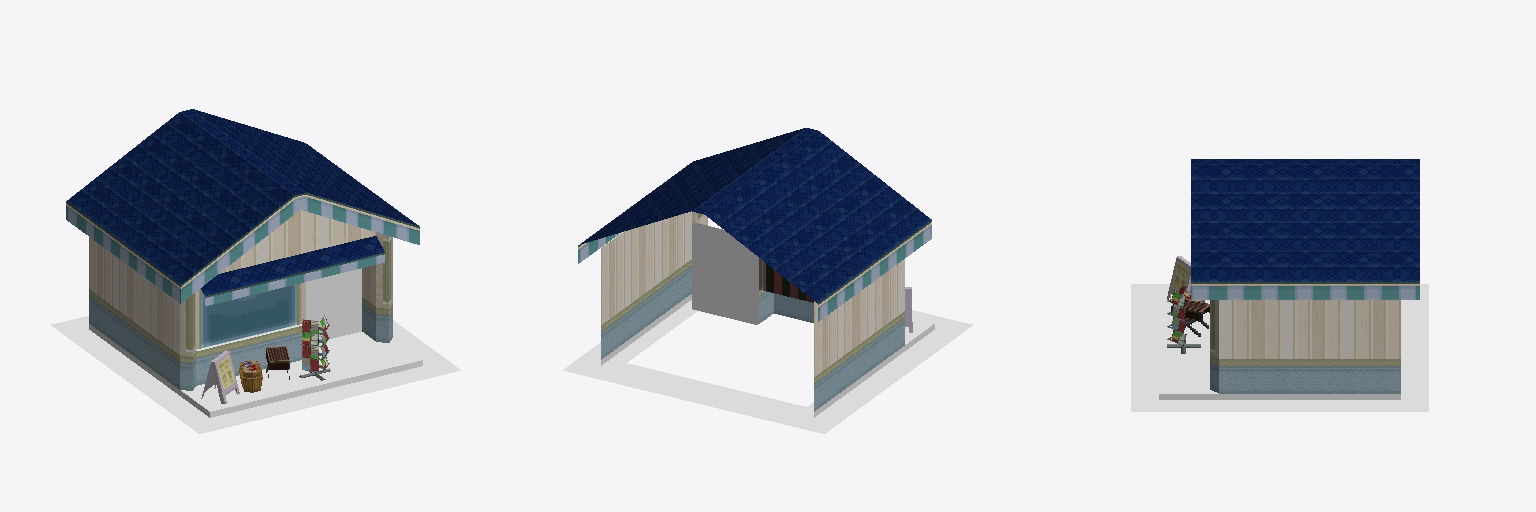
The picture shows the model from 3 angles: view 1: azimuth 30°, elevation 25°; view 2: azimuth 150°, elevation 25°; view 3: azimuth 270°, elevation 25°; orthographic projection.
Visible parts, largest first — view 1: polygon3.044, polygon8.019, polygon5.030, polygon4.035, polygon2.082, polygon6.023, polygon0.112, polygon1.109, polygon10.013, polygon9.014, polygon7.020; view 2: polygon3.044, polygon5.030, polygon2.082, polygon8.019, polygon11.004, polygon4.035, polygon6.023, polygon10.013; view 3: polygon3.044, polygon5.030, polygon2.082, polygon8.019, polygon6.023, polygon4.035, polygon10.013, polygon9.014.
Boxes of the visible parts, box(x1,y1,x2,y2) form: polygon3.044: box(67, 109, 418, 295); polygon8.019: box(89, 232, 392, 390); polygon5.030: box(89, 210, 375, 354); polygon4.035: box(66, 193, 419, 305); polygon2.082: box(51, 316, 460, 433); polygon6.023: box(89, 324, 422, 417); polygon0.112: box(201, 284, 296, 347); polygon1.109: box(306, 268, 361, 339); polygon10.013: box(201, 346, 289, 403); polygon9.014: box(299, 315, 330, 380); polygon7.020: box(239, 360, 262, 392); polygon3.044: box(580, 128, 931, 303); polygon5.030: box(601, 211, 904, 376); polygon2.082: box(563, 300, 972, 433); polygon8.019: box(601, 212, 904, 411); polygon11.004: box(692, 224, 757, 324); polygon4.035: box(578, 220, 931, 321); polygon6.023: box(601, 294, 934, 417); polygon10.013: box(759, 258, 912, 332); polygon3.044: box(1191, 159, 1419, 281); polygon5.030: box(1219, 300, 1400, 358); polygon2.082: box(1131, 284, 1428, 411); polygon8.019: box(1210, 300, 1400, 393); polygon6.023: box(1159, 290, 1400, 399); polygon4.035: box(1191, 282, 1419, 299); polygon10.013: box(1167, 256, 1209, 336); polygon9.014: box(1167, 286, 1200, 353).
Size of the model in its own units: 16 by 11 by 15.8.
12 materials, 8 textured.